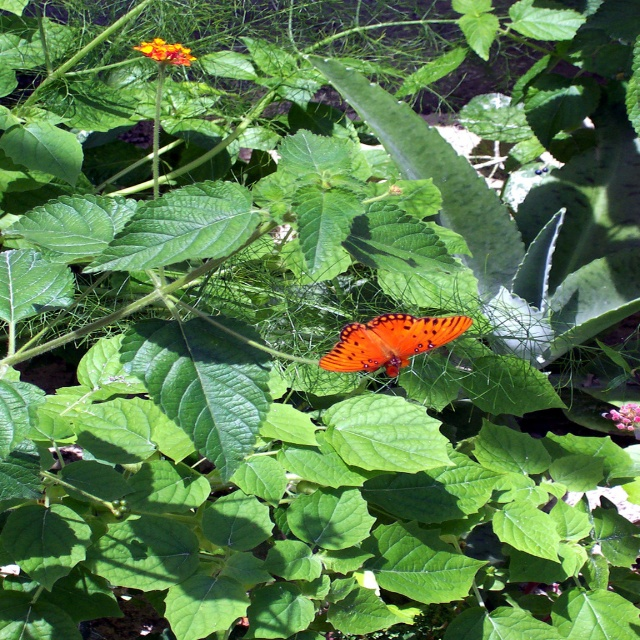Butterfly: (318, 313, 473, 388)
